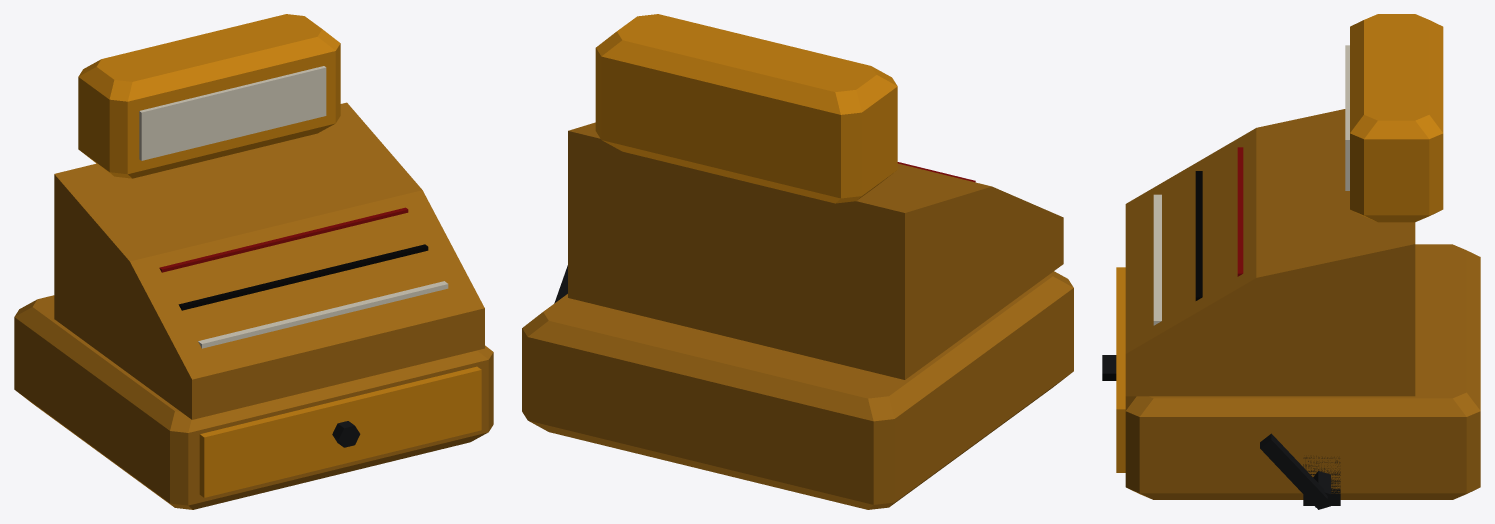
File: SM_Prop_CashRegister_Retro.glb
3 views of the same model, side by side, from view 1: azimuth 30°, elevation 25°; view 2: azimuth 150°, elevation 25°; view 3: azimuth 270°, elevation 25° (orthographic). The views are drawn at different scales.
Parts seen in each view (by area): view 1: SM_Prop_CashRegister_Retro; view 2: SM_Prop_CashRegister_Retro; view 3: SM_Prop_CashRegister_Retro.
Part boxes in pixels (x1=…): SM_Prop_CashRegister_Retro: x1=14, y1=14, x2=493, y2=509; SM_Prop_CashRegister_Retro: x1=522, y1=14, x2=1073, y2=509; SM_Prop_CashRegister_Retro: x1=1102, y1=14, x2=1480, y2=509.
Size of the model in its own units: 0.478 by 0.42 by 0.405.
1 material, 1 textured.
